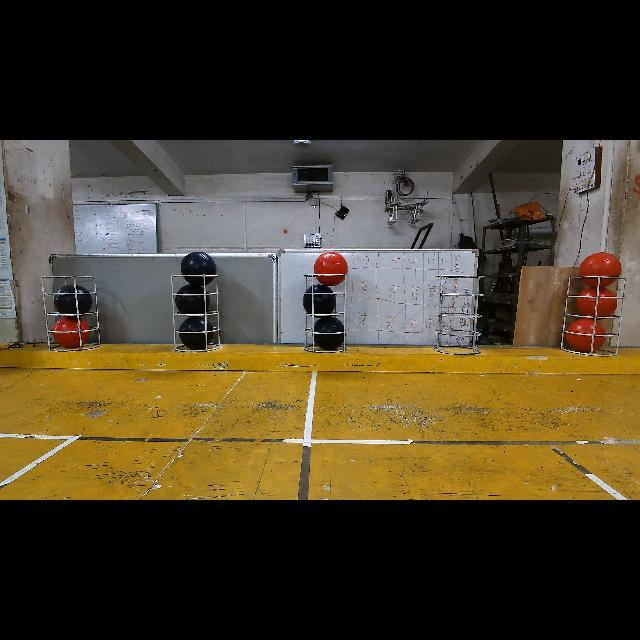P: (181, 251, 217, 287), (179, 316, 214, 350), (54, 285, 92, 316), (302, 284, 336, 315), (175, 285, 210, 315), (314, 316, 344, 350)
R: (579, 252, 621, 288), (568, 319, 608, 352), (575, 287, 617, 318), (52, 316, 90, 349), (314, 251, 348, 286)
S: (170, 274, 214, 360), (302, 276, 350, 354), (436, 280, 484, 358), (571, 282, 619, 358), (49, 275, 97, 345)
